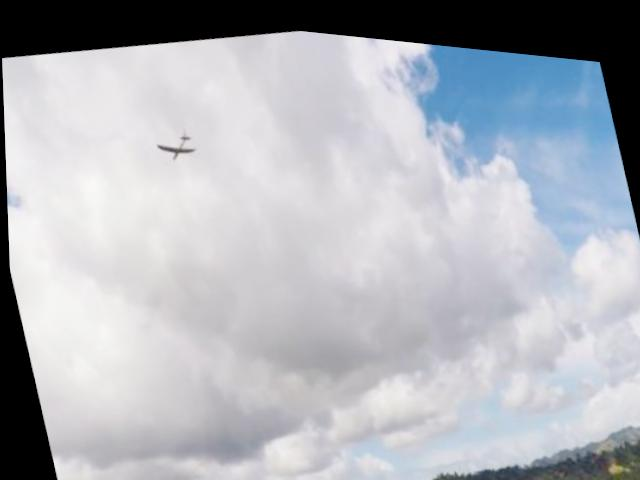uav: (145, 118, 202, 163)
